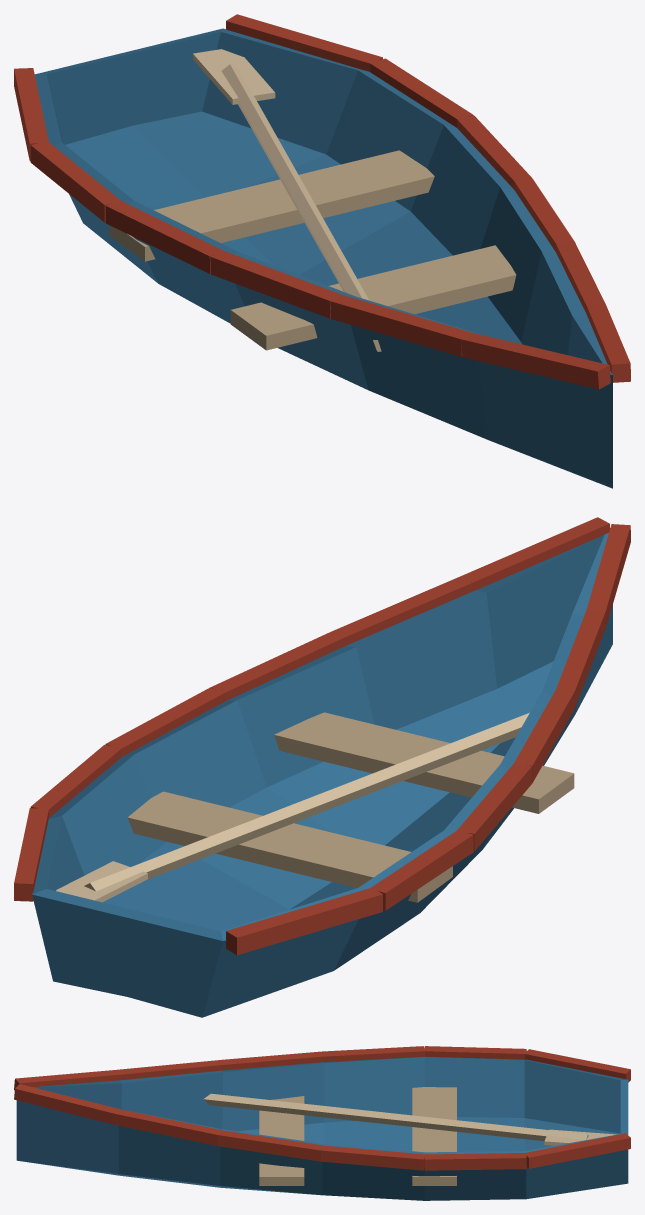
Rendered from rowboat.glb.
3 renders of one model, top to bottom at view 1: azimuth 30°, elevation 25°; view 2: azimuth 150°, elevation 25°; view 3: azimuth 270°, elevation 25°, orthographic. The views are drawn at different scales.
Parts seen in each view (by area): view 1: tide_d10, coal_d10, driftwood_d10, driftwood_l10; view 2: tide_d10, coal_d10, driftwood_d10, driftwood_l10; view 3: tide_d10, coal_d10, driftwood_d10, driftwood_l10.
Part boxes in pixels (x1,y1,x2,y2): tide_d10: [34, 28, 612, 488]; coal_d10: [14, 14, 630, 389]; driftwood_d10: [109, 150, 516, 350]; driftwood_l10: [193, 49, 381, 351]; tide_d10: [32, 533, 612, 1017]; coal_d10: [14, 517, 630, 955]; driftwood_d10: [127, 712, 574, 902]; driftwood_l10: [56, 712, 529, 902]; tide_d10: [16, 1056, 628, 1200]; coal_d10: [14, 1046, 630, 1170]; driftwood_d10: [259, 1087, 456, 1185]; driftwood_l10: [203, 1093, 616, 1145].
Size of the model in its own units: 1.32 by 0.5879 by 3.03.
